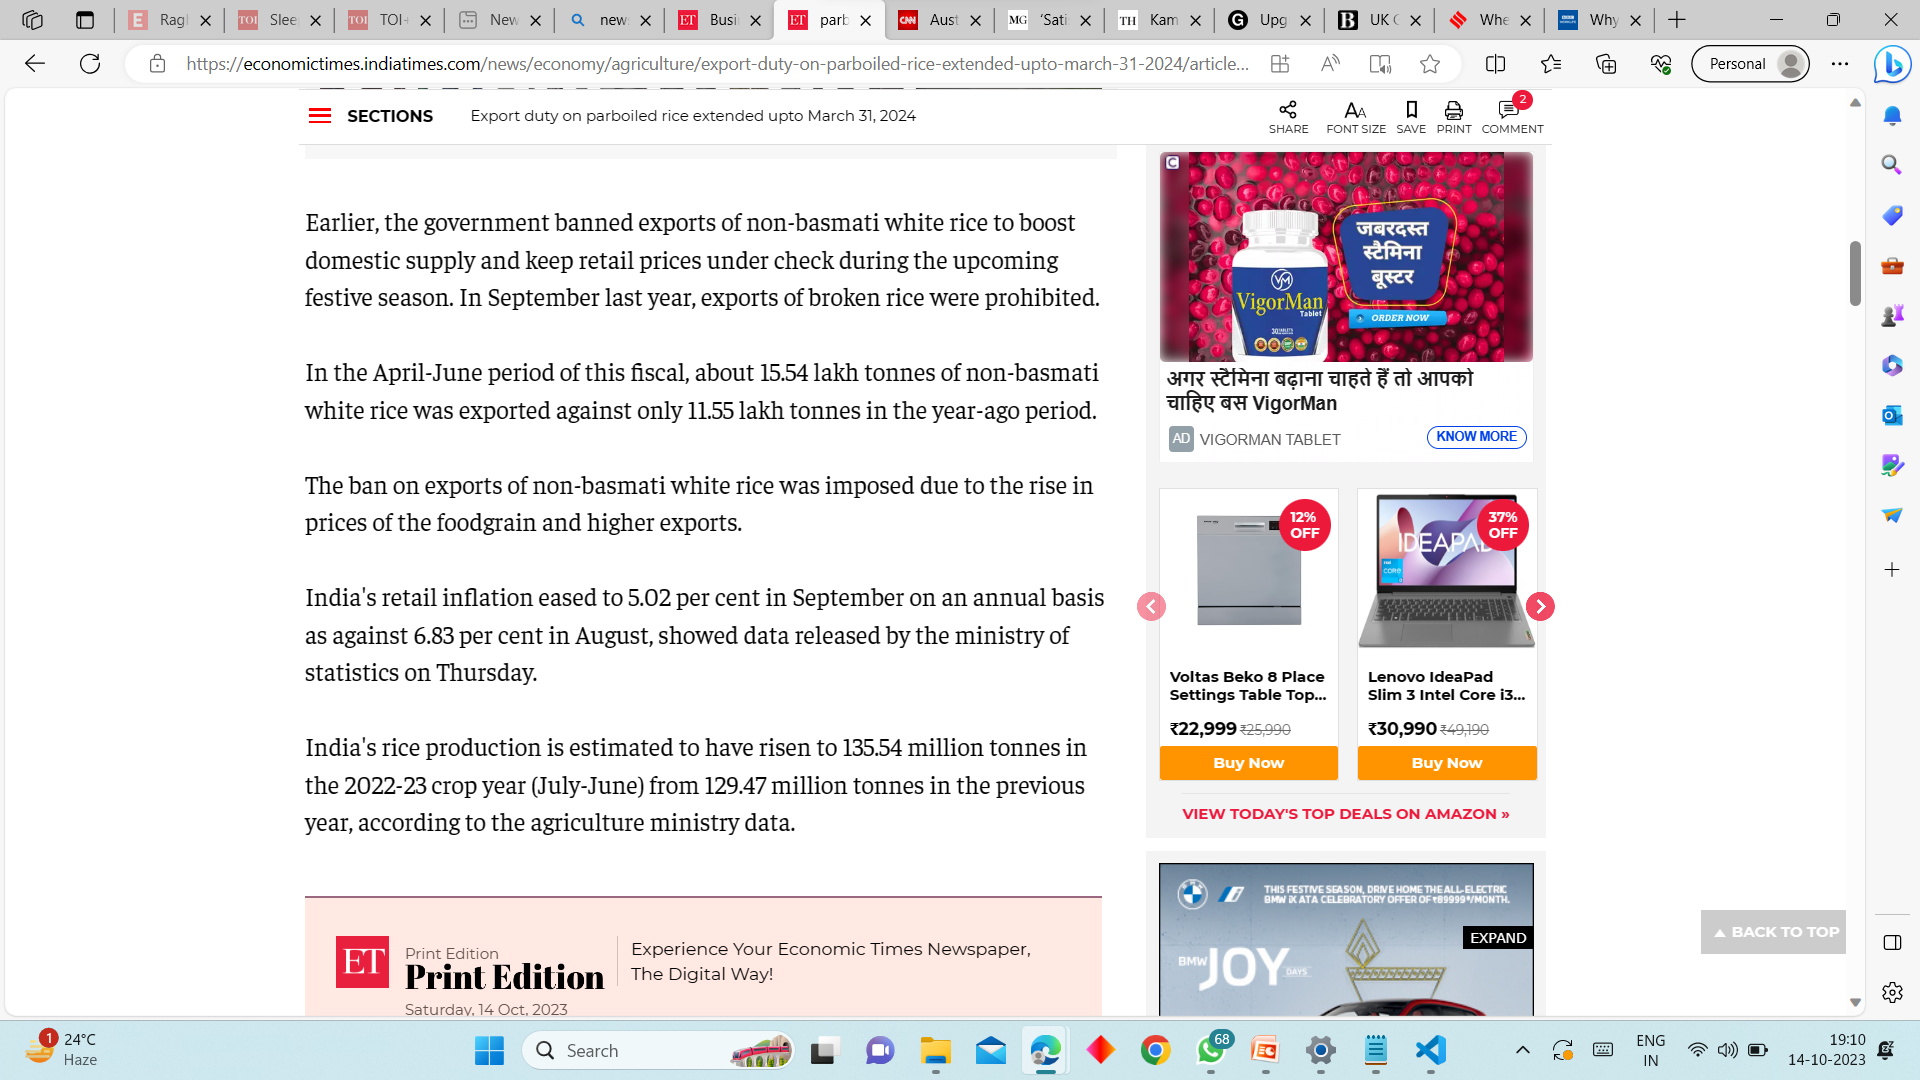Image: (1152, 487, 1554, 841), (1154, 143, 1534, 467), (302, 874, 1116, 1022), (1143, 850, 1554, 1017)
Paragraph: (291, 190, 1100, 333), (277, 727, 1098, 852), (286, 584, 1140, 702), (284, 344, 1102, 438), (293, 472, 1098, 550), (463, 96, 946, 132), (347, 98, 445, 136), (1250, 94, 1321, 141), (1328, 96, 1389, 139), (1480, 98, 1545, 136), (1438, 98, 1474, 136), (1393, 101, 1431, 136)
